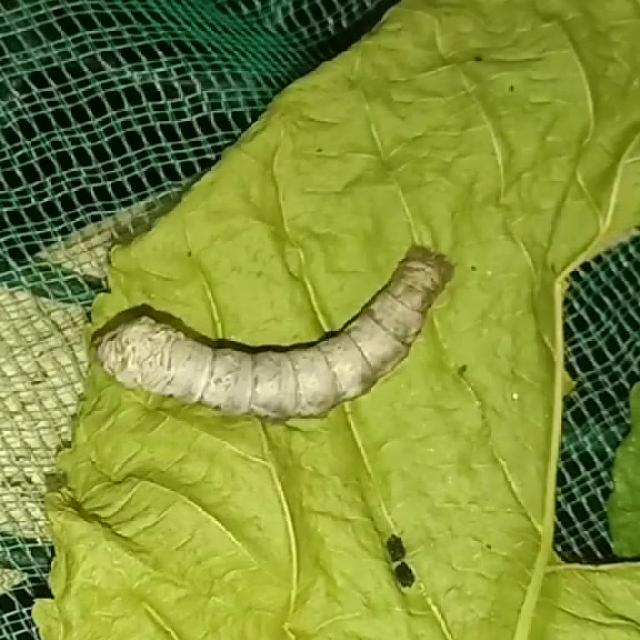Grasserie: (88, 199, 486, 467)
